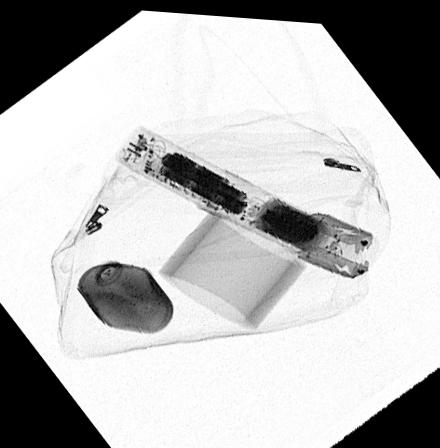Baton: (118, 121, 374, 274)
